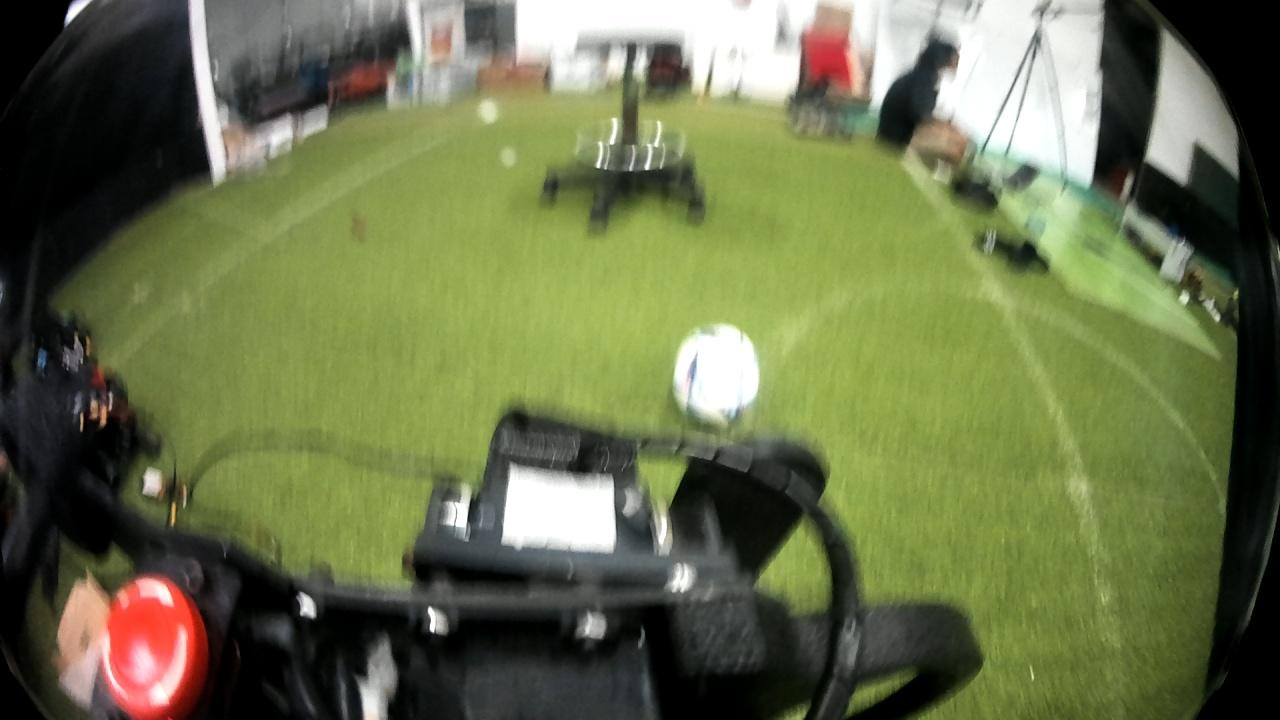ball: (664, 310, 767, 435)
